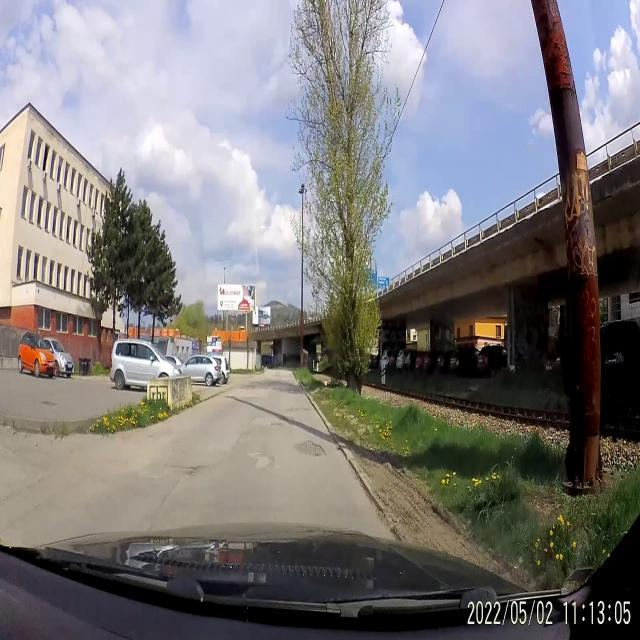Pothole: (292, 438, 328, 468), (176, 458, 214, 484), (246, 446, 268, 474), (284, 398, 312, 416), (268, 420, 289, 434)
